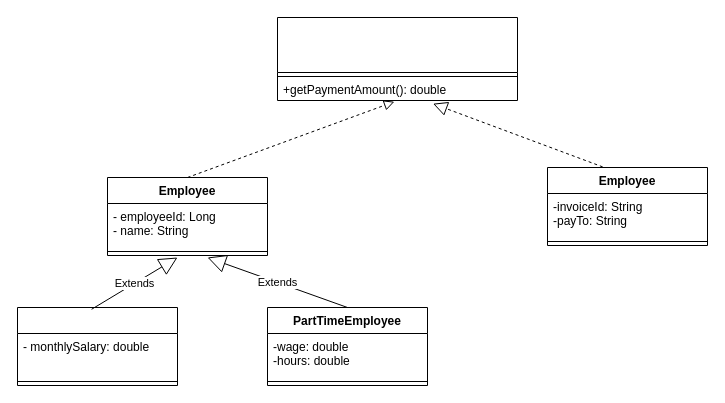
Some shapes in this 725 by 403 pixel diagram are drawn without their labels. Each missing label, with the box of its shape:
<<interface>> Payable {abstract}: (276, 16, 518, 100)
FullTimeEmployee: (16, 306, 178, 386)
